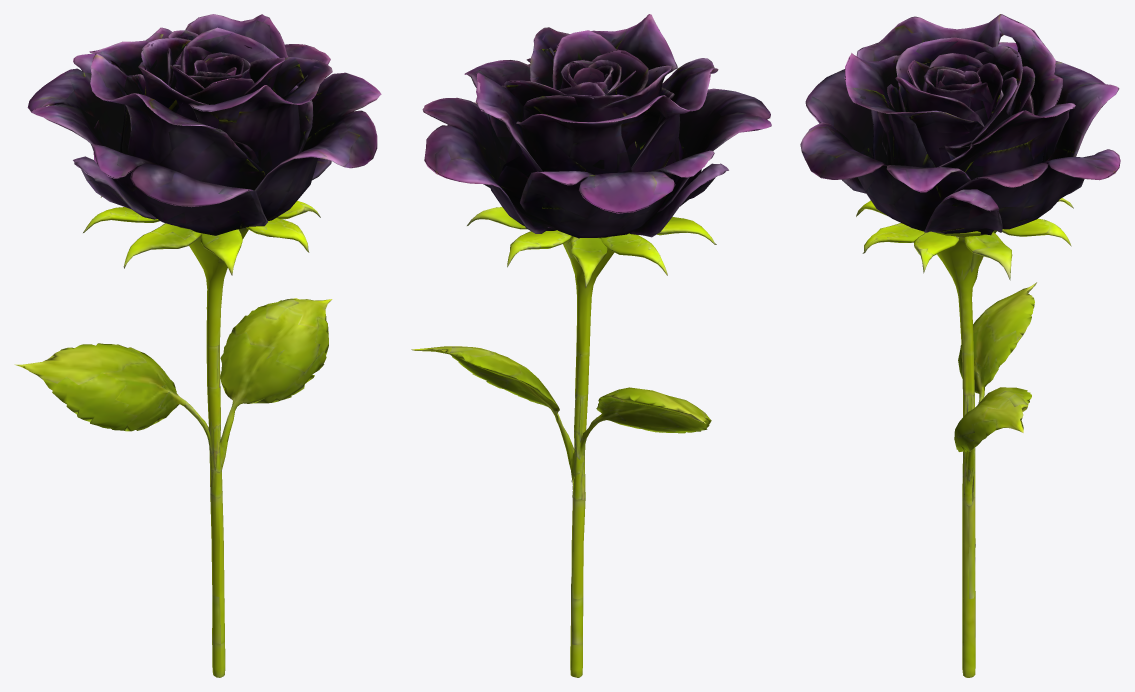
The model's file is rose_black.glb.
3 views of the same model, side by side, from view 1: azimuth 30°, elevation 25°; view 2: azimuth 150°, elevation 25°; view 3: azimuth 270°, elevation 25° (orthographic). The views are drawn at different scales.
Visible parts, largest first — view 1: geometry_0; view 2: geometry_0; view 3: geometry_0.
Boxes of the visible parts, x1,y1,x2,y2 form: geometry_0: (14,14,381,677); geometry_0: (411,14,771,677); geometry_0: (800,14,1120,677).
Size of the model in its own units: 0.4849 by 0.9502 by 0.4473.
1 material, 1 textured.
